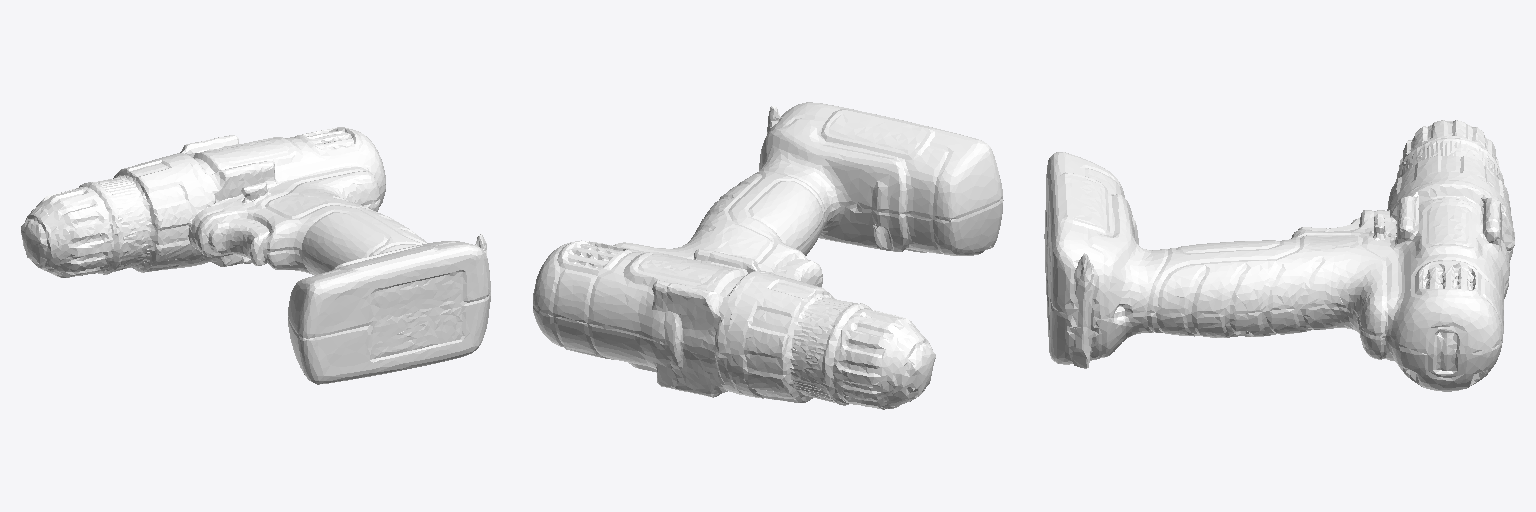
URDF robot description (035_power_drill):
<?xml version="1.0" ?>
<robot name="035_power_drill">
    <link name="baseLink">
        <contact>
        <friction_anchor/>
        <lateral_friction value="1.5"/>
        <rolling_friction value="0.1"/>
        <spinning_friction value="0.1"/>
        <contact_cfm value="1e-5"/>
        <contact_erp value="0.8"/>
        </contact>
        <visual>
            <origin rpy="0 0 0" xyz="0 0 0"/>
            <geometry>
                <mesh filename="assets/objects/035_power_drill/meshes/035_power_drill_textured.obj" scale="1 1 1"/>
            </geometry>
            <material name="white">
                <color rgba="1 1 1 1"/>
            </material>
        </visual>
        <collision>
            <origin rpy="0 0 0" xyz="0 0 0"/>
            <geometry>
                <mesh filename="assets/objects/035_power_drill/meshes/035_power_drill_textured.obj" scale="1 1 1"/>
            </geometry>
        </collision>
        <inertial>
            <origin rpy="0 0 0" xyz="0 0 0"/>
            <mass value="1.0"/>
            <inertia ixx="0.1" ixy="0" ixz="0" iyy="0.1" iyz="0" izz="0.1"/>
        </inertial>
    </link>
</robot>

--- Facts derived from the render (not from the file) ---
3 views of the same robot in one strip: view 1: azimuth 30°, elevation 25°; view 2: azimuth 150°, elevation 25°; view 3: azimuth 270°, elevation 25° (orthographic).
Model 035_power_drill with 1 links and 0 joints (none), rooted at baseLink, posed all joints at 0.
Links seen in each view (by area): view 1: baseLink; view 2: baseLink; view 3: baseLink.
Link boxes in pixels (x1,y1,x2,y2): baseLink: (21, 127, 490, 384); baseLink: (533, 102, 1003, 409); baseLink: (1044, 120, 1514, 391).
Size in the robot's own frame: 0.1842 by 0.1875 by 0.0573 metres.
1 mesh visuals loaded from 1 distinct referenced files (1 OBJ).
